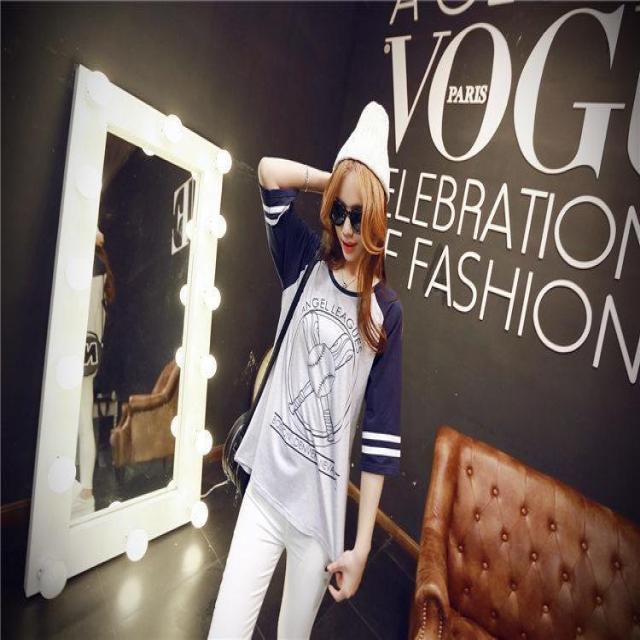long sleeve top: (235, 183, 402, 567)
trousers: (207, 456, 340, 637)
